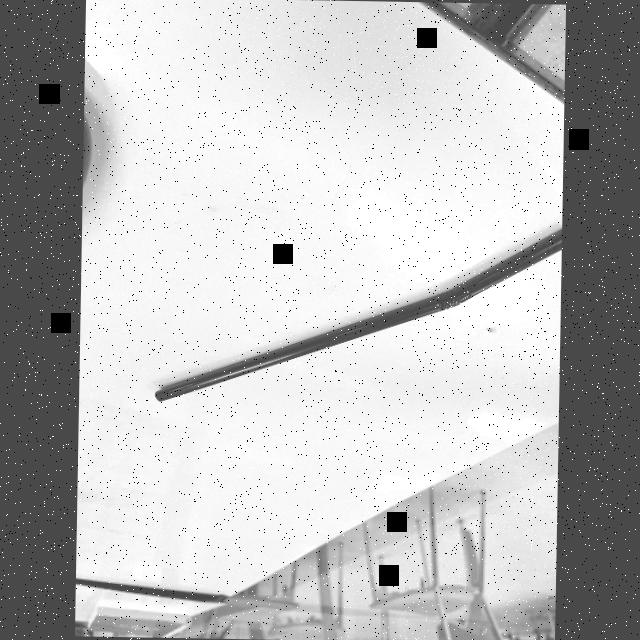straw: (150, 222, 562, 414)
